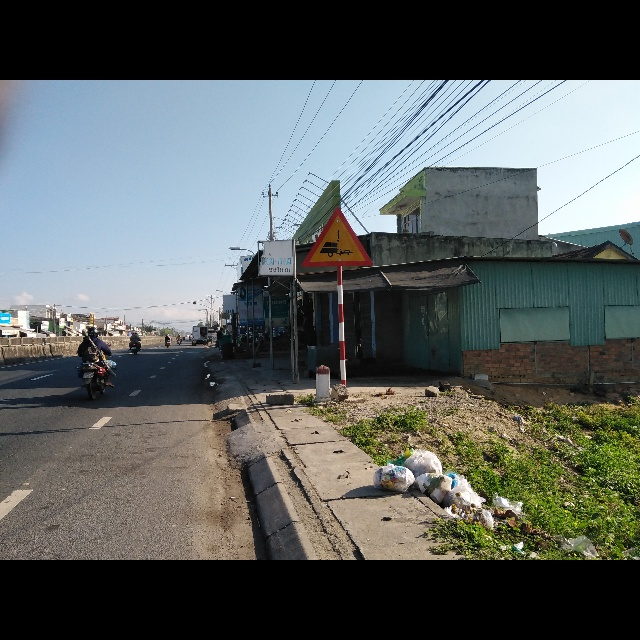Đoạn đường hay xảy ra tai nạn: (300, 206, 374, 269)
